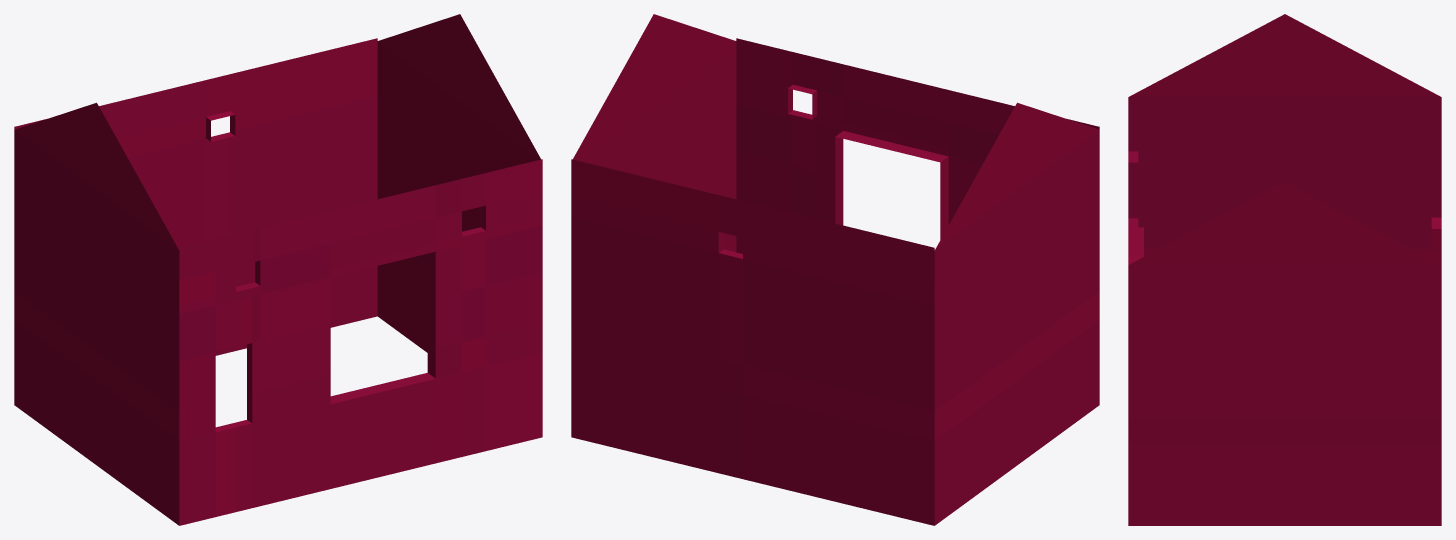
The model's file is SM_Bld_139_Masonry.glb.
3 renders of one model, left to right at view 1: azimuth 30°, elevation 25°; view 2: azimuth 150°, elevation 25°; view 3: azimuth 270°, elevation 25°, orthographic. The views are drawn at different scales.
Parts seen in each view (by area): view 1: SM_Bld_139_Masonry; view 2: SM_Bld_139_Masonry; view 3: SM_Bld_139_Masonry.
Boxes of the visible parts, bbox=[...] form: SM_Bld_139_Masonry: bbox=[14, 14, 542, 525]; SM_Bld_139_Masonry: bbox=[571, 14, 1099, 525]; SM_Bld_139_Masonry: bbox=[1128, 14, 1441, 525].
Size of the model in its own units: 8.98 by 8.57 by 7.07.
